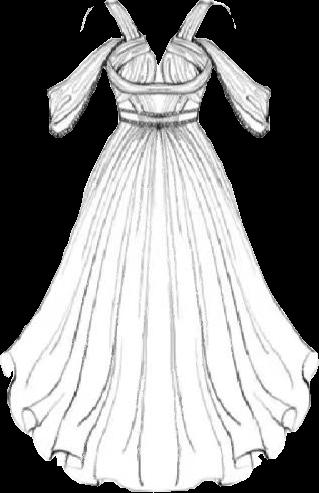Bodice: (103, 0, 218, 127)
Hemline: (0, 350, 318, 492)
Neckline: (117, 0, 201, 69)
Skirt: (0, 122, 317, 491)
Sleeve: (193, 38, 270, 137), (47, 37, 120, 137)
Sleeveline: (194, 37, 215, 71), (101, 37, 122, 68)
Waistline: (117, 118, 202, 131)
